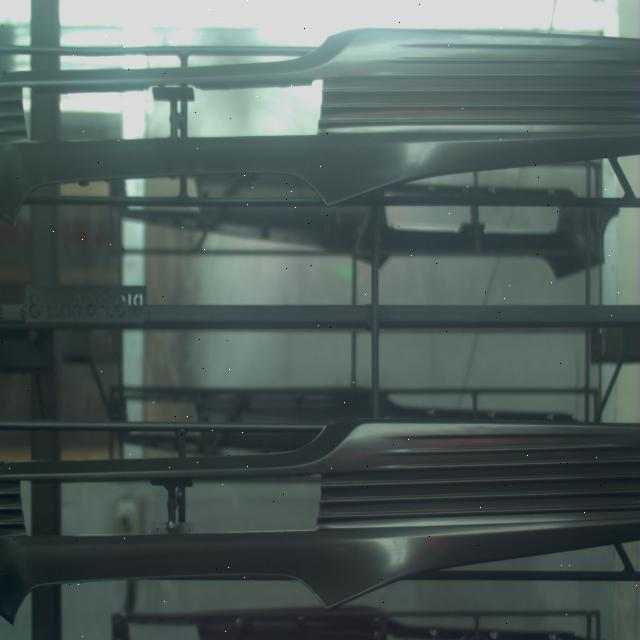Non_primered: (0, 420, 640, 618), (0, 33, 639, 207)
